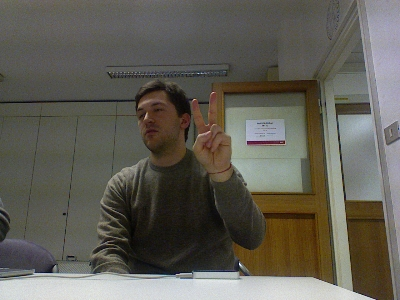剪刀: (189, 91, 232, 173)
